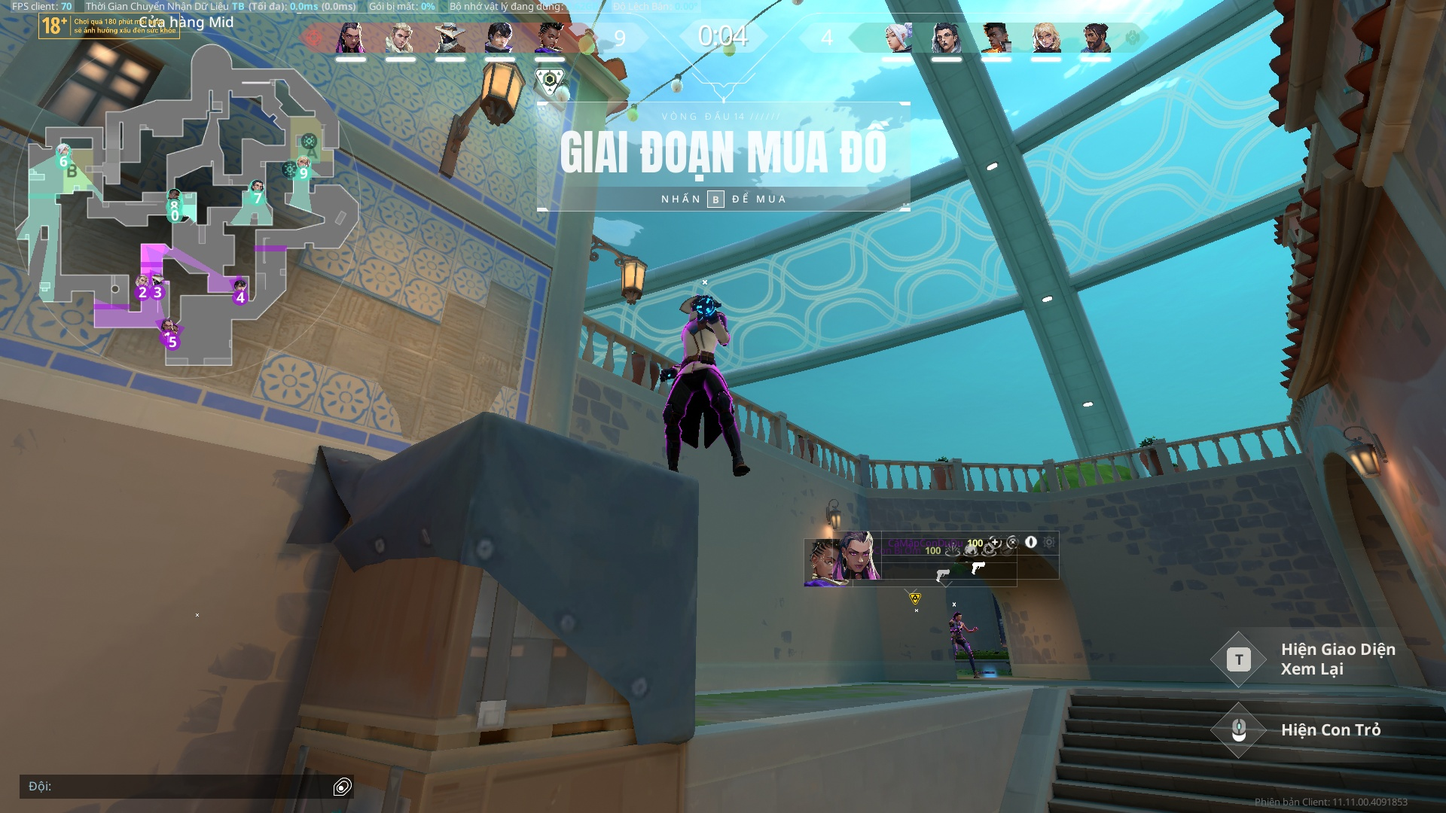body: (677, 316, 729, 365), (947, 619, 968, 641)
head: (689, 295, 710, 315), (953, 611, 962, 621)
